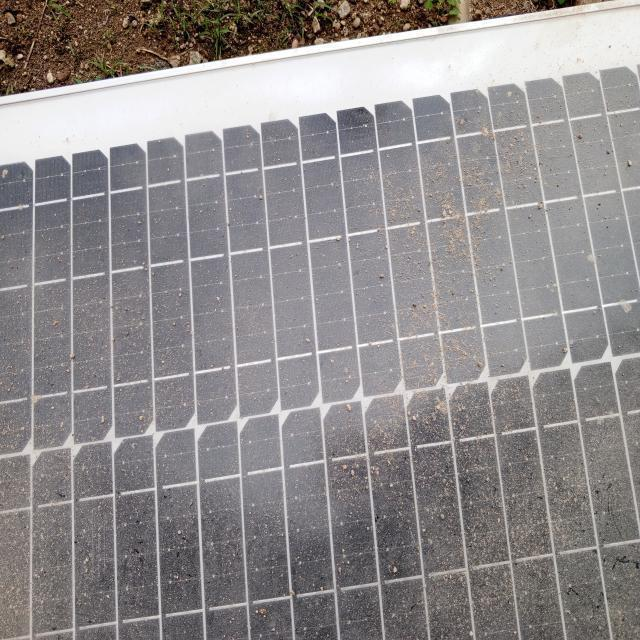Surface Contaminant: (16, 128, 639, 639)
